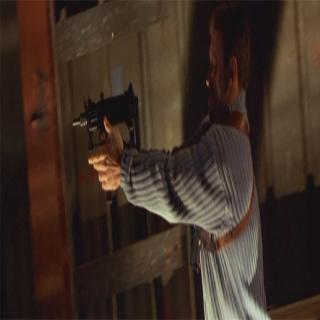gun: (72, 75, 142, 212)
